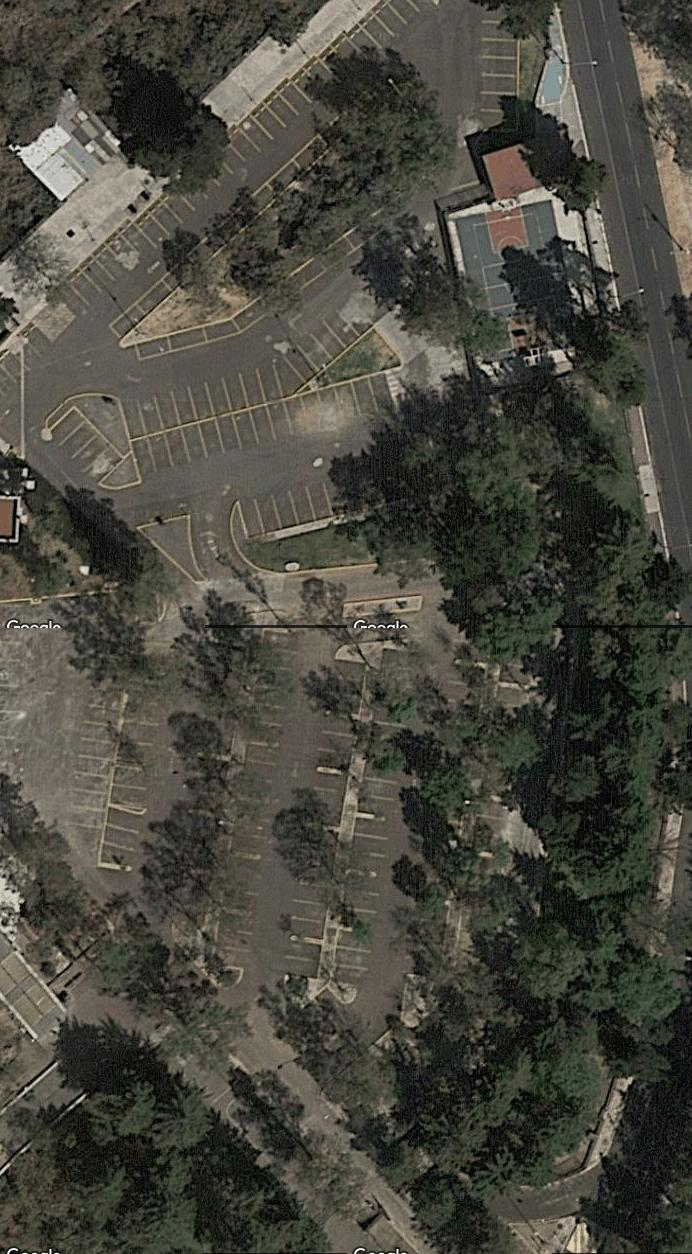parkingspot: (53, 1, 422, 319), (107, 132, 332, 340), (133, 214, 388, 363), (126, 369, 398, 476), (230, 629, 299, 856), (330, 775, 398, 986), (118, 360, 287, 443), (281, 287, 392, 385), (69, 668, 129, 830), (236, 475, 355, 541), (47, 405, 126, 485), (316, 655, 368, 772), (290, 825, 341, 939), (109, 699, 161, 809), (480, 2, 523, 134), (99, 803, 143, 867), (222, 855, 265, 912), (215, 912, 256, 971), (308, 771, 349, 828), (284, 939, 324, 981)
